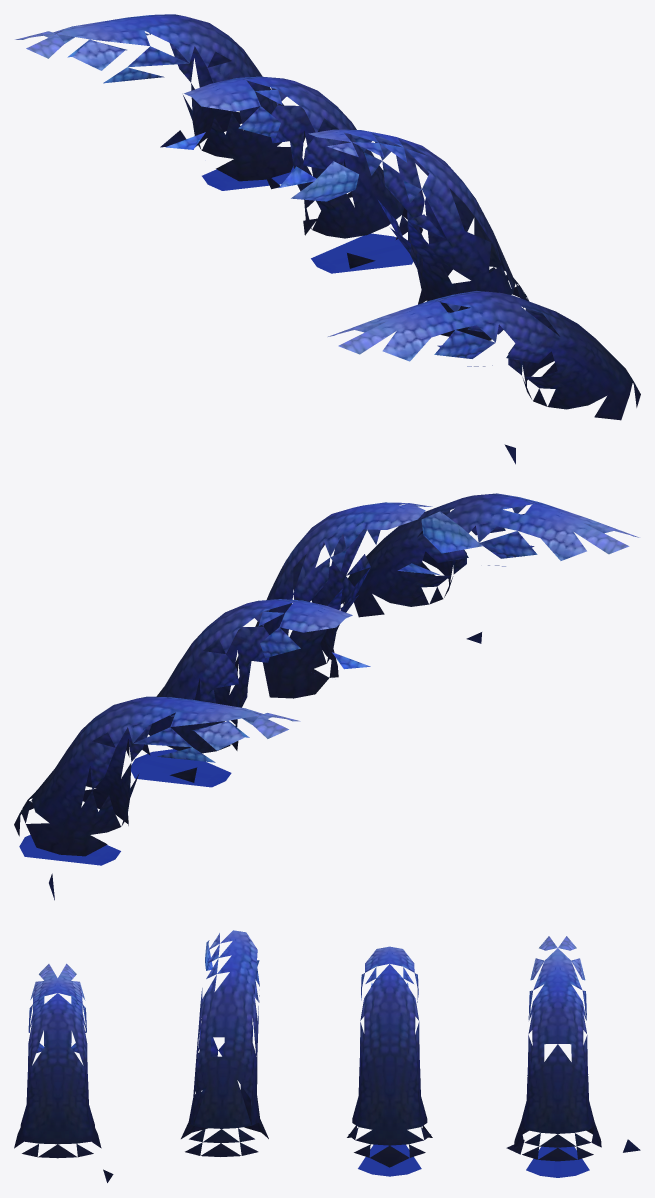
The model's file is anemona.glb.
3 views of the same model, one above another, from view 1: azimuth 30°, elevation 25°; view 2: azimuth 150°, elevation 25°; view 3: azimuth 270°, elevation 25° (orthographic). The views are drawn at different scales.
Visible parts, largest first — view 1: anemona; view 2: anemona; view 3: anemona.
Part boxes in pixels (x1,y1,x2,y2): anemona: [15, 14, 640, 464]; anemona: [14, 493, 639, 900]; anemona: [14, 930, 640, 1182].
Bounding box in the file's own units: 1.07 × 0.8196 × 2.48.
1 material, 1 textured.
